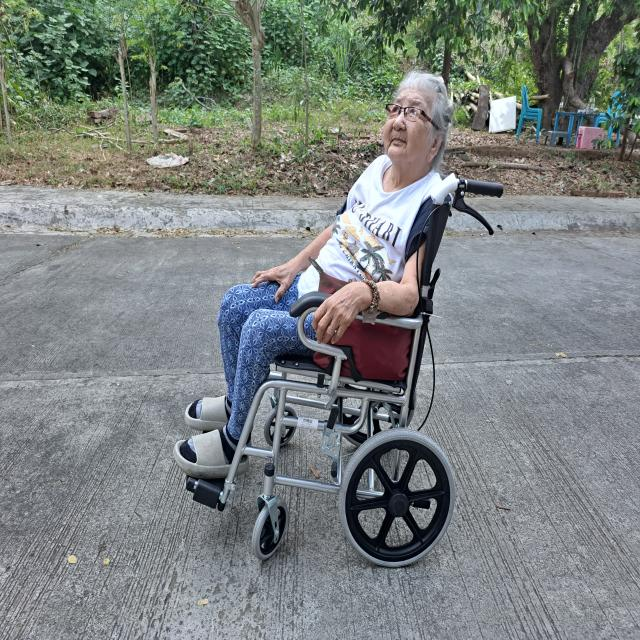wheelchairs: (162, 172, 511, 574)
